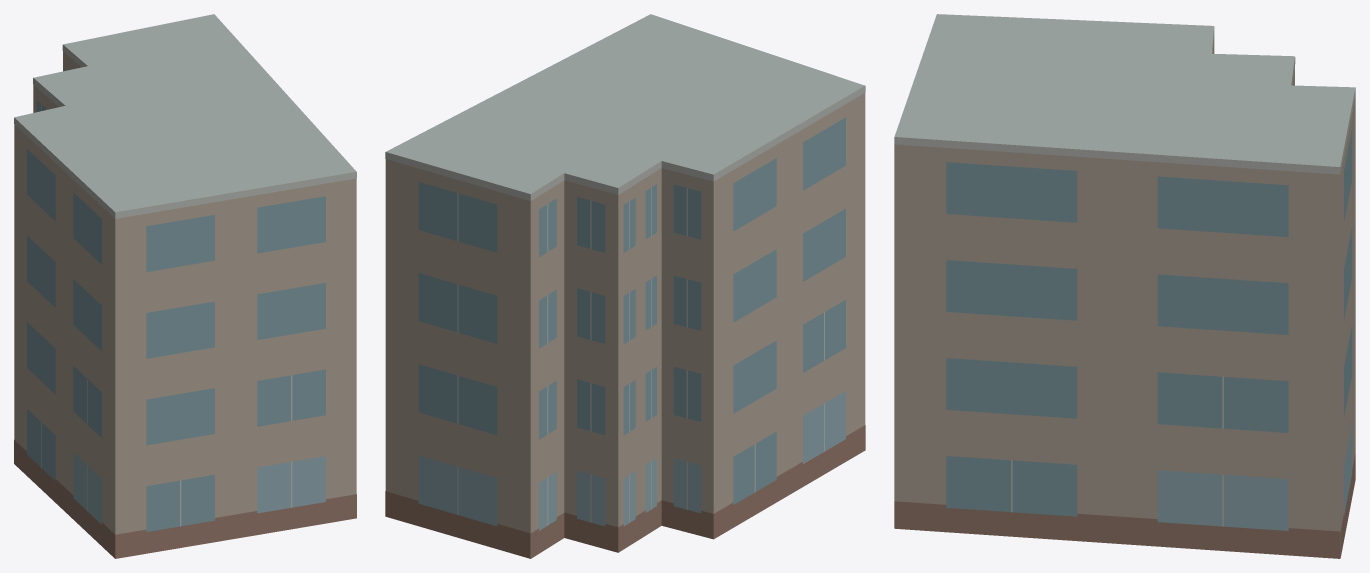
File: survey-upis-32870337.glb
3 renders of one model, left to right at view 1: azimuth 30°, elevation 25°; view 2: azimuth 150°, elevation 25°; view 3: azimuth 270°, elevation 25°, orthographic. The views are drawn at different scales.
Visible parts, largest first — view 1: survey-upis-32870337.tmp; view 2: survey-upis-32870337.tmp; view 3: survey-upis-32870337.tmp.
Boxes of the visible parts, x1=… form: survey-upis-32870337.tmp: x1=14, y1=14, x2=356, y2=558; survey-upis-32870337.tmp: x1=385, y1=14, x2=865, y2=558; survey-upis-32870337.tmp: x1=894, y1=14, x2=1355, y2=558.
Bounding box in the file's own units: 10.74 × 12.8 × 13.67.
